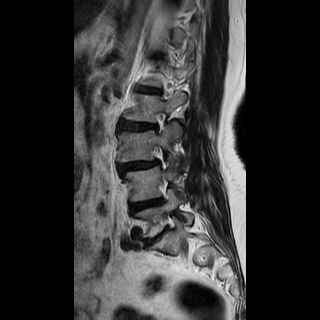LFS0: (148, 107, 172, 138)
